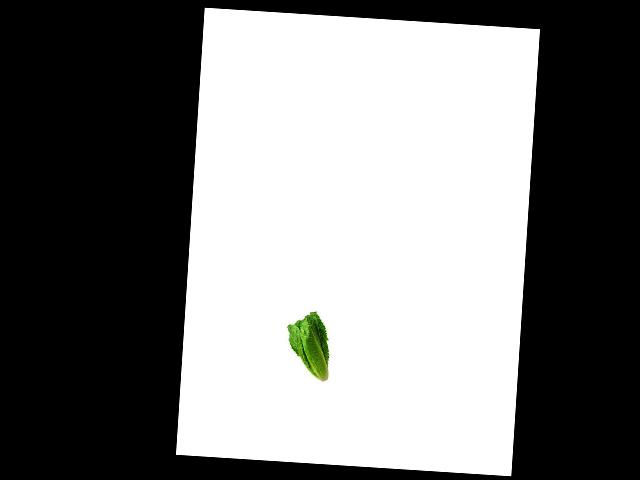lettuce: (283, 309, 333, 388)
